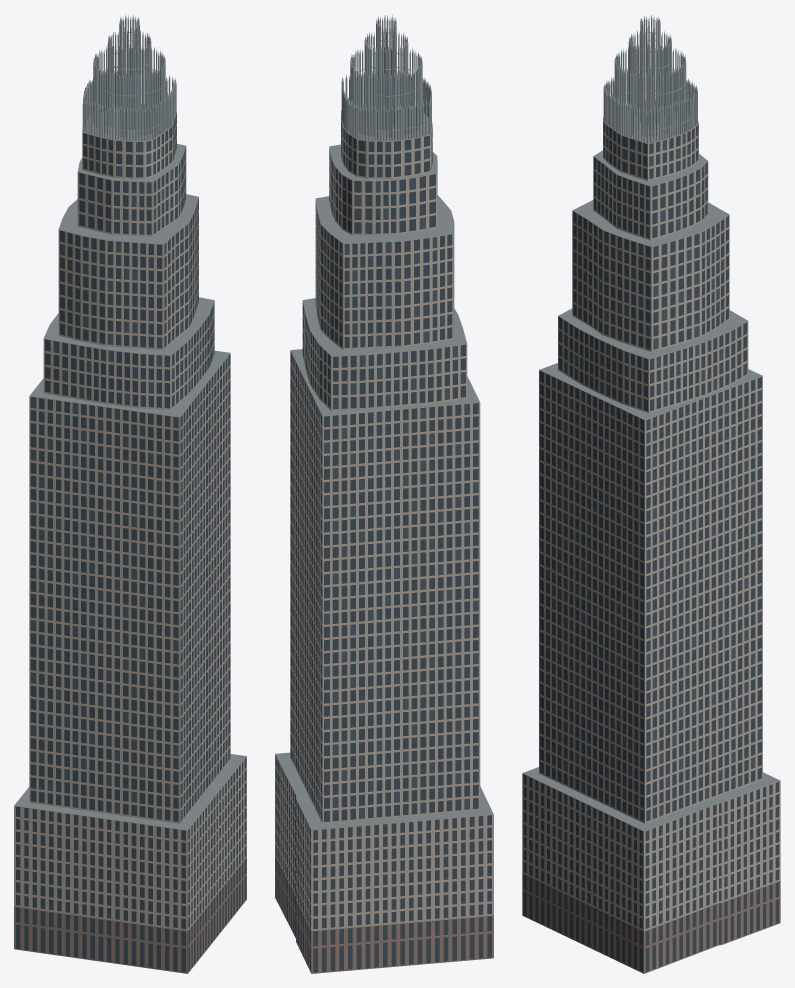
The model's file is bank-of-america-corporate-center-near.glb.
The picture shows the model from 3 angles, left to right: view 1: azimuth 30°, elevation 25°; view 2: azimuth 150°, elevation 25°; view 3: azimuth 270°, elevation 25°; orthographic projection.
Parts seen in each view (by area): view 1: bank-of-america-corporate-center-0-stone, bank-of-america-corporate-center-0-glass, bank-of-america-corporate-center-0-glow, bank-of-america-corporate-center-0-light, bank-of-america-corporate-center-0-roof, bank-of-america-corporate-center-0-granite; view 2: bank-of-america-corporate-center-0-stone, bank-of-america-corporate-center-0-glass, bank-of-america-corporate-center-0-glow, bank-of-america-corporate-center-0-roof, bank-of-america-corporate-center-0-light, bank-of-america-corporate-center-0-granite; view 3: bank-of-america-corporate-center-0-stone, bank-of-america-corporate-center-0-glass, bank-of-america-corporate-center-0-glow, bank-of-america-corporate-center-0-light, bank-of-america-corporate-center-0-roof, bank-of-america-corporate-center-0-granite.
Part boxes in pixels (box(x1,y1,x2,y2)): bank-of-america-corporate-center-0-stone: box(14, 114, 246, 931); bank-of-america-corporate-center-0-glass: box(16, 113, 246, 972); bank-of-america-corporate-center-0-glow: box(30, 135, 230, 821); bank-of-america-corporate-center-0-light: box(82, 14, 176, 141); bank-of-america-corporate-center-0-roof: box(14, 103, 246, 830); bank-of-america-corporate-center-0-granite: box(14, 857, 246, 973); bank-of-america-corporate-center-0-stone: box(275, 122, 493, 930); bank-of-america-corporate-center-0-glass: box(275, 115, 491, 972); bank-of-america-corporate-center-0-glow: box(290, 129, 478, 818); bank-of-america-corporate-center-0-roof: box(275, 105, 493, 829); bank-of-america-corporate-center-0-light: box(341, 15, 431, 140); bank-of-america-corporate-center-0-granite: box(275, 855, 493, 973); bank-of-america-corporate-center-0-stone: box(522, 121, 780, 931); bank-of-america-corporate-center-0-glass: box(523, 125, 779, 971); bank-of-america-corporate-center-0-glow: box(540, 122, 761, 821); bank-of-america-corporate-center-0-light: box(603, 15, 697, 143); bank-of-america-corporate-center-0-roof: box(522, 100, 780, 831); bank-of-america-corporate-center-0-granite: box(522, 873, 780, 973).
Size of the model in its own units: 69.04 by 266 by 69.03.
